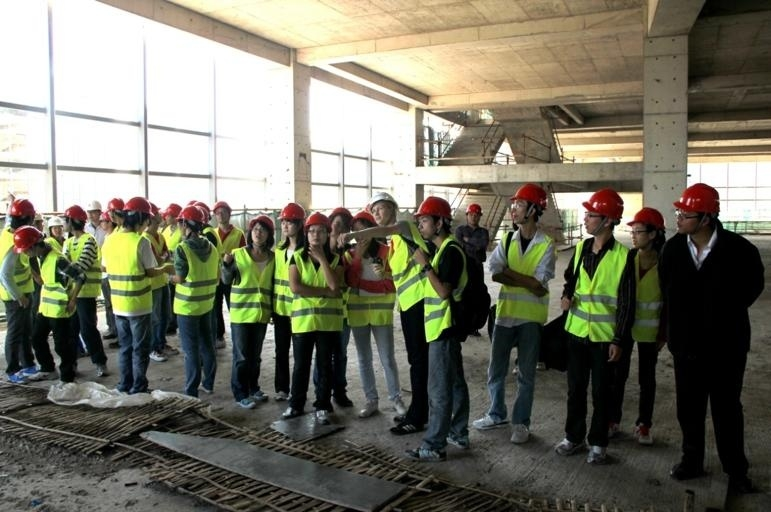People: (661, 183, 763, 493), (339, 194, 434, 434), (555, 188, 635, 463), (473, 185, 555, 443), (405, 196, 468, 460), (102, 197, 172, 393), (283, 212, 343, 424), (15, 226, 84, 382), (625, 207, 665, 444), (223, 215, 272, 408), (173, 206, 219, 396), (64, 205, 107, 376), (273, 203, 305, 400), (455, 204, 488, 275), (609, 349, 631, 437), (213, 201, 244, 253), (85, 200, 112, 249), (213, 284, 229, 348), (101, 276, 115, 339)
helmet: (673, 183, 719, 215), (582, 188, 623, 219), (512, 183, 546, 209), (13, 225, 43, 253), (627, 207, 664, 228), (415, 196, 451, 217), (122, 196, 153, 215), (279, 202, 305, 221), (177, 205, 205, 222), (305, 212, 330, 230), (9, 199, 35, 216), (368, 191, 397, 206), (64, 205, 87, 221), (353, 211, 376, 226), (44, 214, 64, 227), (85, 199, 102, 211), (466, 203, 482, 213)
